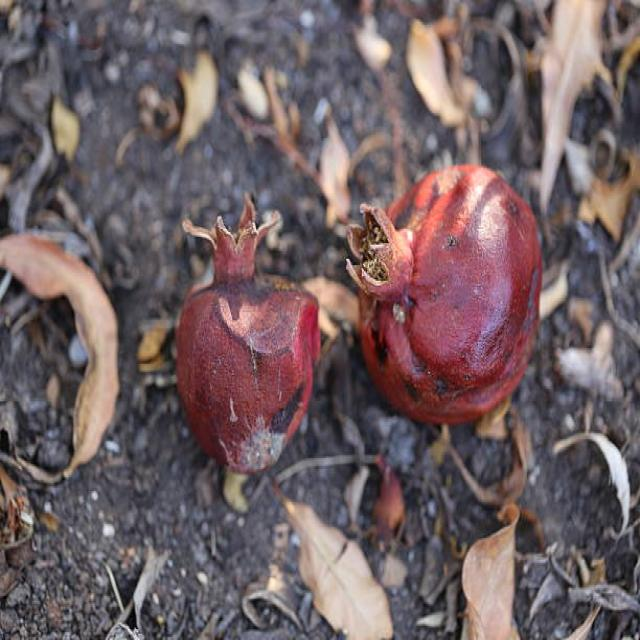Rotten: (347, 162, 542, 423), (176, 198, 320, 474)
